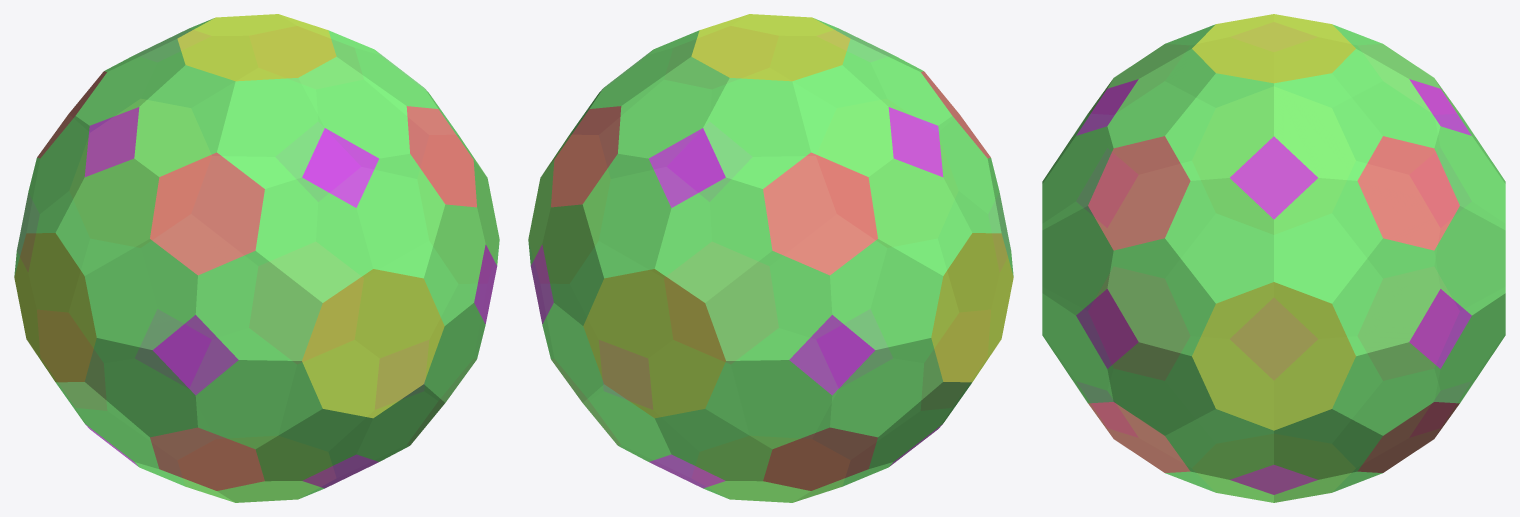
The model's file is TruncatedDisdyakisDodecahedron.obj.
The picture shows the model from 3 angles, left to right: view 1: azimuth 30°, elevation 25°; view 2: azimuth 150°, elevation 25°; view 3: azimuth 270°, elevation 25°; orthographic projection.
Size of the model in its own units: 7.37 by 7.37 by 7.37.
